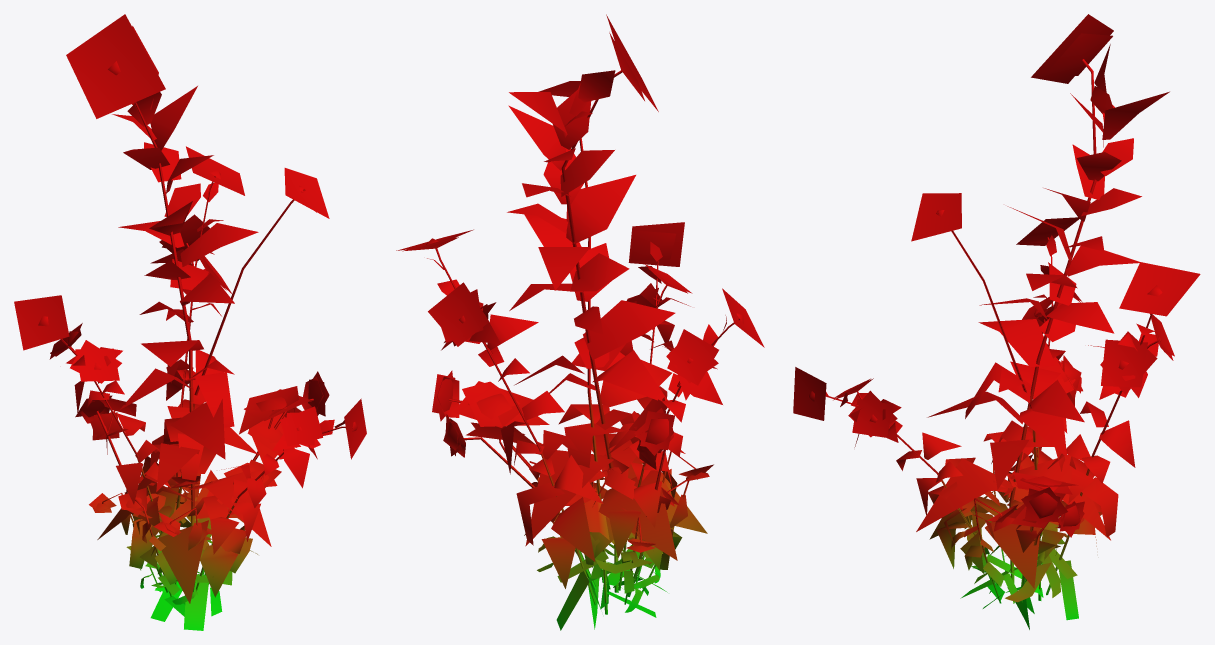
Rendered from Crownbeard_LOD3_Var3_tefoajkr.fbx.
3 renders of one model, left to right at view 1: azimuth 30°, elevation 25°; view 2: azimuth 150°, elevation 25°; view 3: azimuth 270°, elevation 25°, orthographic. The views are drawn at different scales.
Visible parts, largest first — view 1: _f097_Var3_LOD3; view 2: _f097_Var3_LOD3; view 3: _f097_Var3_LOD3.
Boxes of the visible parts, x1,y1,x2,y2 form: _f097_Var3_LOD3: (14, 14, 366, 630); _f097_Var3_LOD3: (396, 14, 764, 630); _f097_Var3_LOD3: (793, 14, 1200, 629).
Size of the model in its own units: 37.75 by 70.96 by 43.86.
